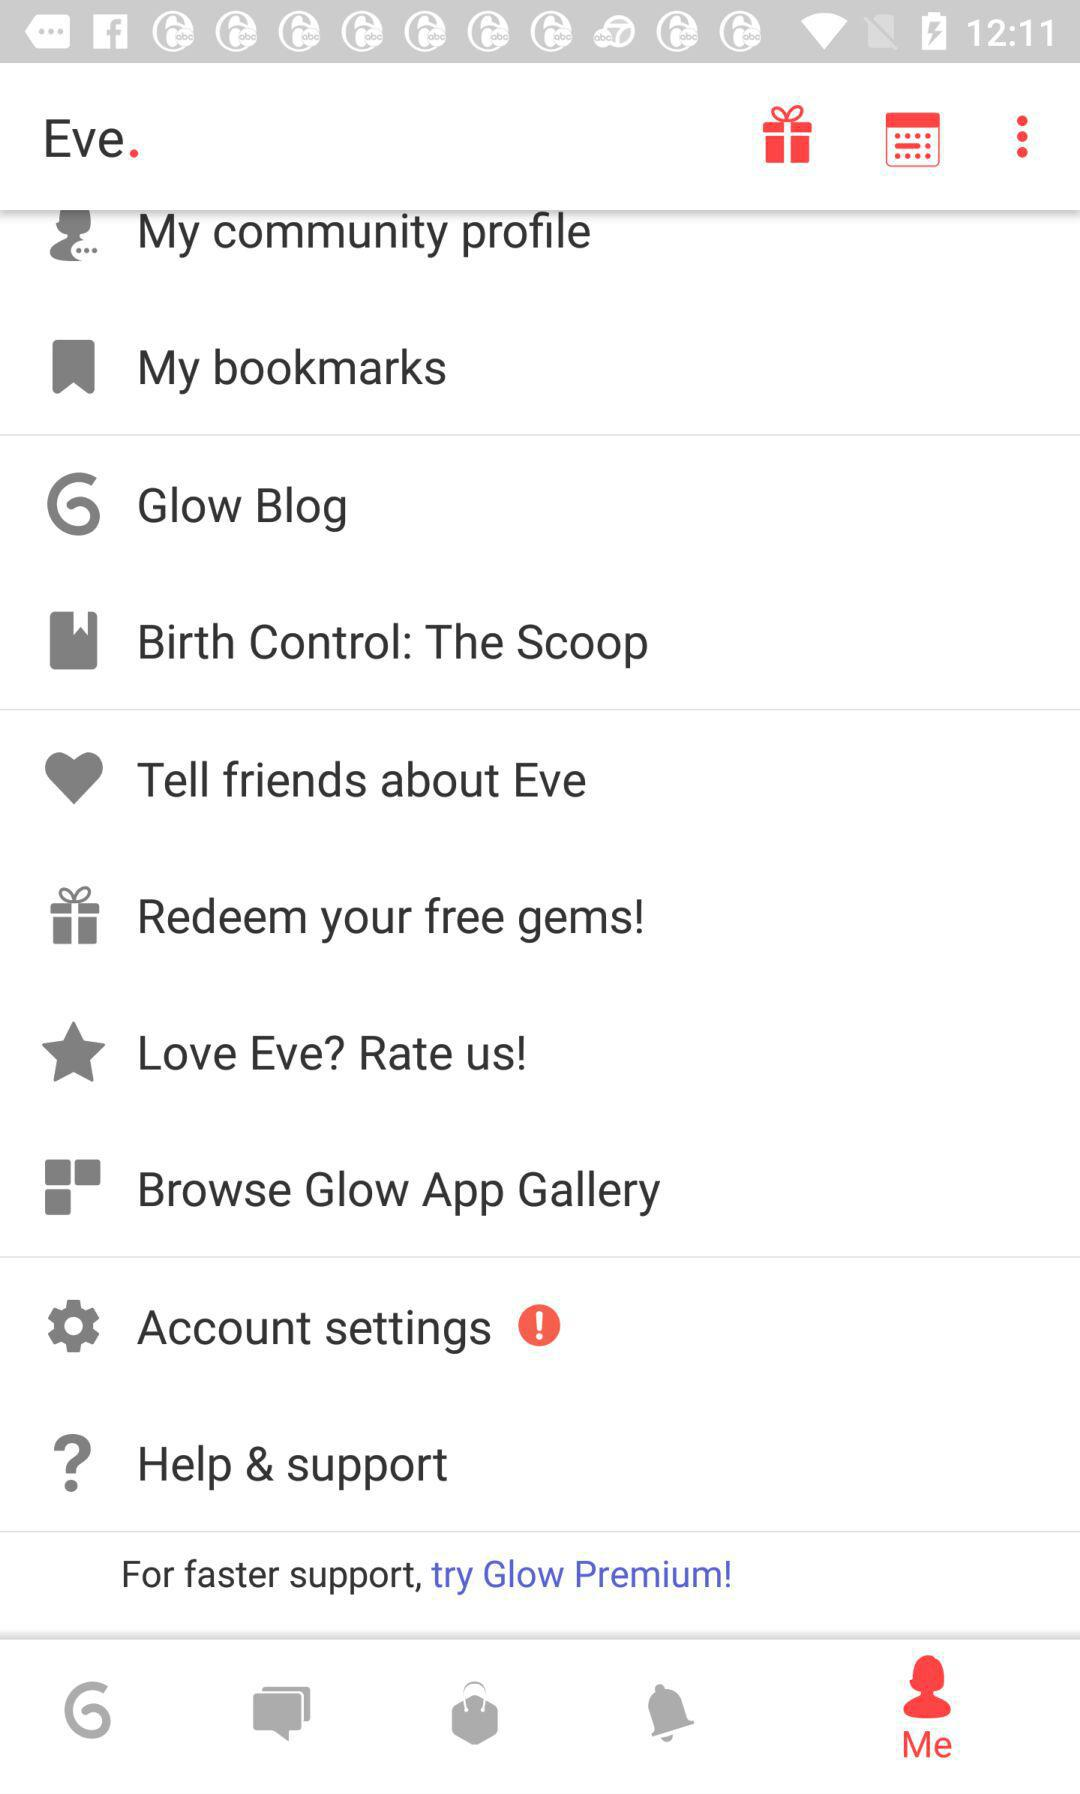Bottom_Navigation: (1, 1640, 1080, 1794)
Icon: (42, 1020, 108, 1084), (252, 1685, 313, 1743), (45, 1158, 102, 1217), (45, 751, 105, 806), (902, 1654, 952, 1720), (885, 111, 942, 169), (451, 1680, 500, 1747), (50, 607, 100, 671), (762, 104, 814, 165), (50, 885, 101, 946), (647, 1683, 696, 1744), (47, 1299, 101, 1354), (53, 340, 97, 396), (54, 1433, 94, 1493), (518, 1303, 562, 1348), (1015, 115, 1029, 161)
Image: (49, 211, 99, 263)
Text: (138, 1169, 662, 1219), (138, 621, 650, 671), (138, 896, 644, 944), (122, 1558, 732, 1595), (140, 211, 592, 260), (137, 759, 587, 800), (137, 1310, 493, 1356), (140, 347, 447, 396), (138, 1034, 527, 1073), (138, 1444, 450, 1492), (138, 486, 347, 534), (47, 472, 102, 537), (46, 119, 126, 160), (64, 1680, 113, 1740), (903, 1730, 953, 1759)
Toolbar: (1, 64, 1080, 211)
UpperTaskBar: (1, 1, 1080, 64)
